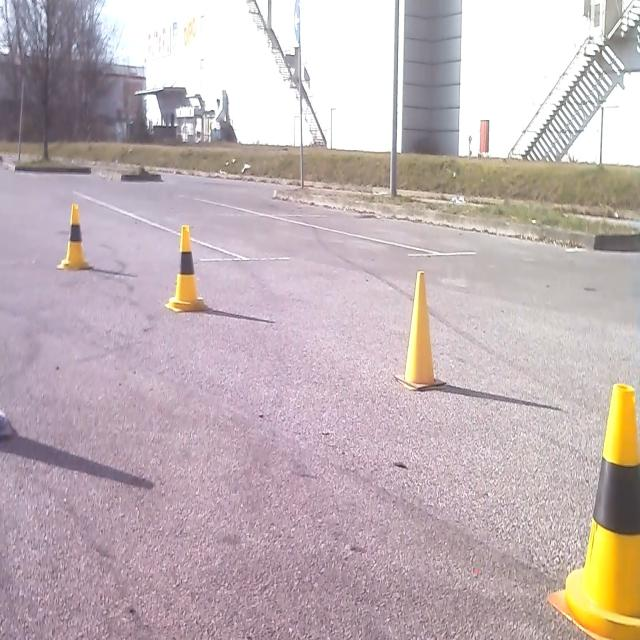yellow_cone: (547, 379, 639, 638), (393, 267, 446, 392), (164, 222, 208, 313), (56, 200, 92, 271)
